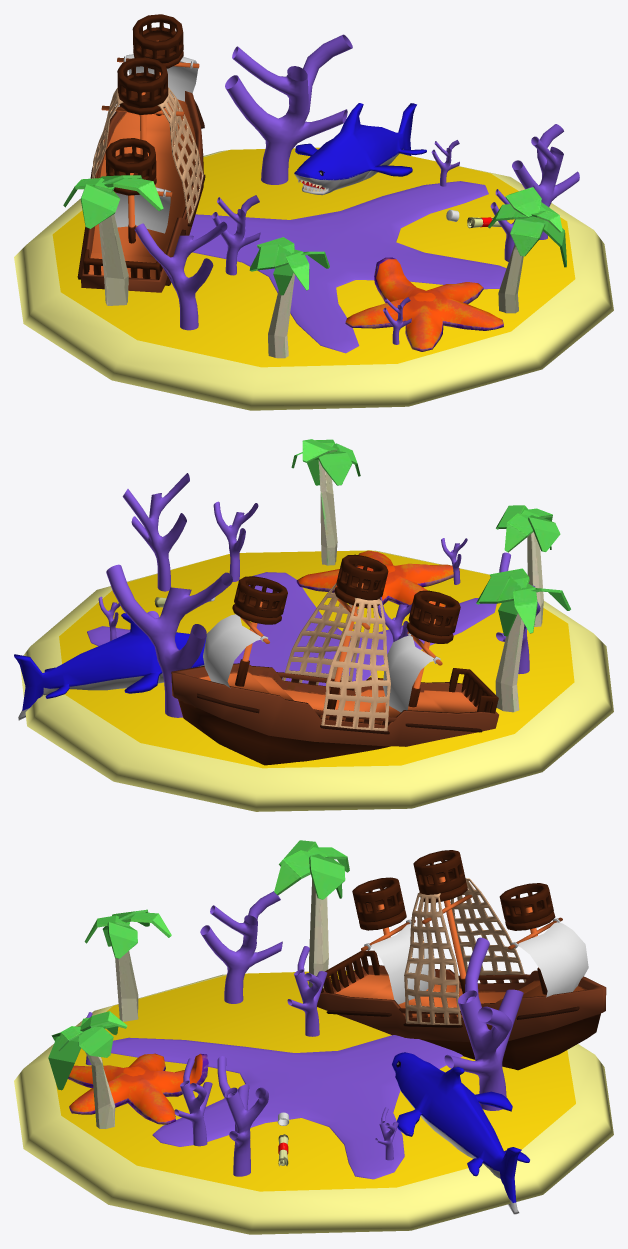
Rendered from roblox_low_poly_seaside_island.glb.
3 views of the same model, one above another, from view 1: azimuth 30°, elevation 25°; view 2: azimuth 150°, elevation 25°; view 3: azimuth 270°, elevation 25° (orthographic).
Visible parts, largest first — view 1: unnamed (×13); view 2: unnamed (×13); view 3: unnamed (×13).
Boxes of the visible parts, left/top/right/bottom form: unnamed (×13): left=14, top=14, right=613, bottom=410; unnamed (×13): left=14, top=439, right=613, bottom=811; unnamed (×13): left=14, top=840, right=613, bottom=1234.
Bounding box in the file's own units: 169 × 65.59 × 169.
Materials: 10 (9 with a texture image).
